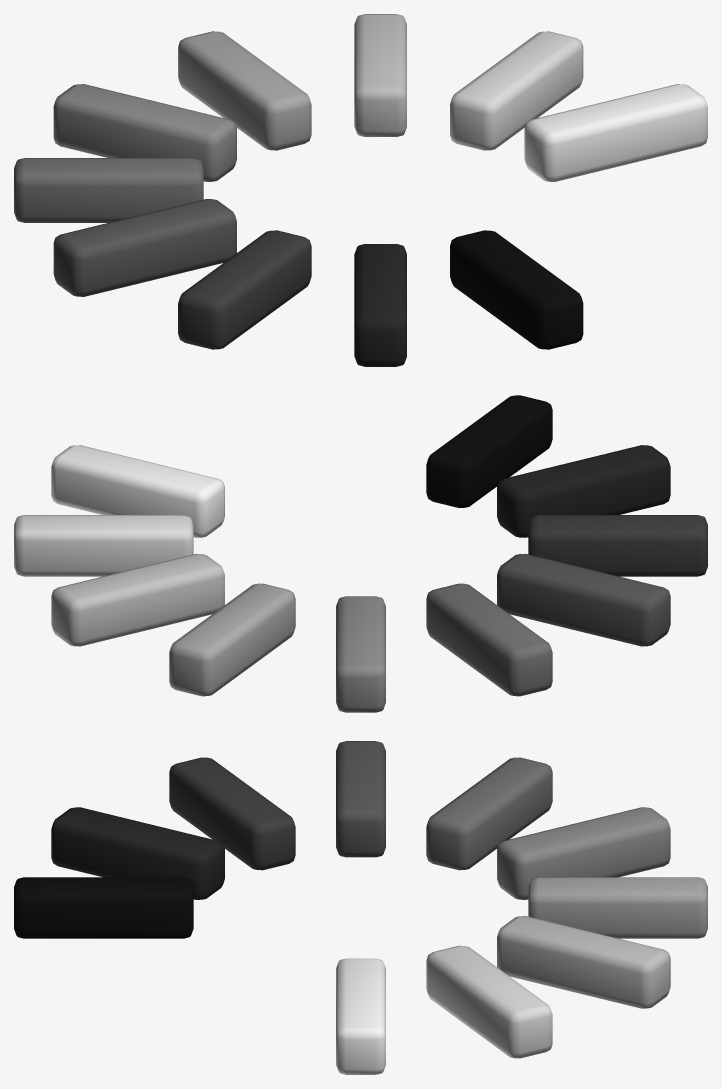
File: LoadIcon.FBX
3 views of the same model, one above another, from view 1: azimuth 30°, elevation 25°; view 2: azimuth 150°, elevation 25°; view 3: azimuth 270°, elevation 25° (orthographic). The views are drawn at different scales.
Parts seen in each view (by area): view 1: Plane005; view 2: Plane005; view 3: Plane005.
Boxes of the visible parts, box(x1,y1,x2,y2) form: Plane005: box(14, 14, 707, 366); Plane005: box(14, 395, 707, 712); Plane005: box(14, 741, 707, 1074).
Bounding box in the file's own units: 55.61 × 4.16 × 55.61.
1 material, 1 textured.
